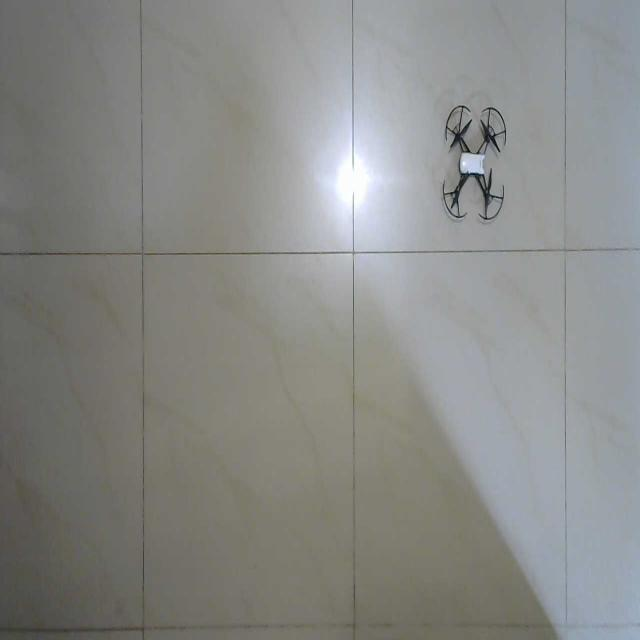drone: (442, 104, 507, 221)
